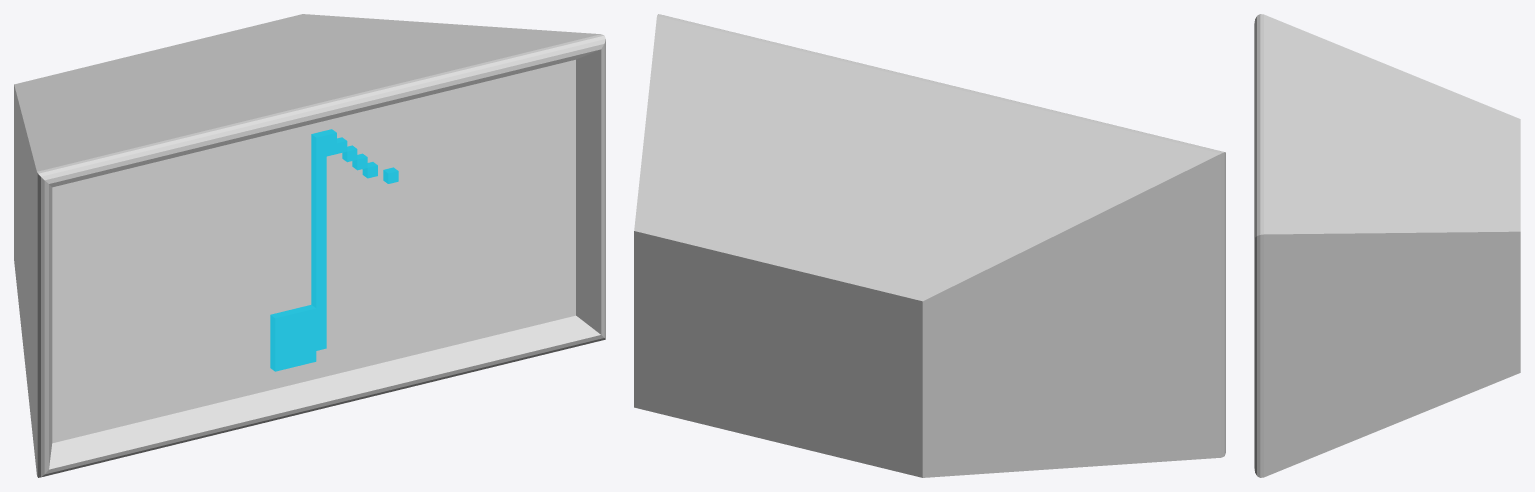
File: music.glb
3 views of the same model, side by side, from view 1: azimuth 30°, elevation 25°; view 2: azimuth 150°, elevation 25°; view 3: azimuth 270°, elevation 25° (orthographic). The views are drawn at different scales.
Visible parts, largest first — view 1: Screen, Cube, Note; view 2: Cube; view 3: Cube.
Boxes of the visible parts, x1,y1,x2,y2 form: Screen: (52, 59, 575, 443); Cube: (14, 14, 605, 477); Note: (270, 129, 398, 371); Cube: (634, 14, 1225, 477); Cube: (1254, 14, 1520, 477).
Bounding box in the file's own units: 3.93 × 2.01 × 2.
